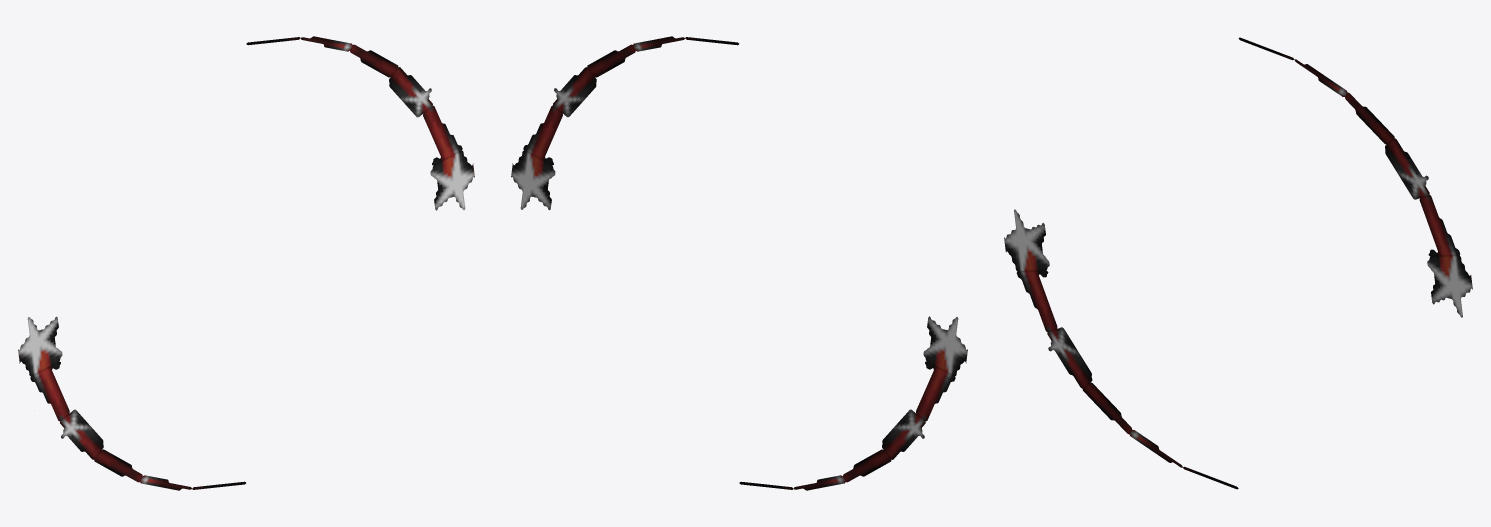
3 views of the same model, side by side, from view 1: azimuth 30°, elevation 25°; view 2: azimuth 150°, elevation 25°; view 3: azimuth 330°, elevation 25° (orthographic). The views are drawn at different scales.
Parts seen in each view (by area): view 1: T1L1M008_19; view 2: T1L1M008_19; view 3: T1L1M008_19.
Part boxes in pixels (x1,y1,x2,y2): T1L1M008_19: (18,36,474,490); T1L1M008_19: (511,36,967,490); T1L1M008_19: (1004,37,1472,489).
Bounding box in the file's own units: 2.06 × 2.06 × 0.000977.
